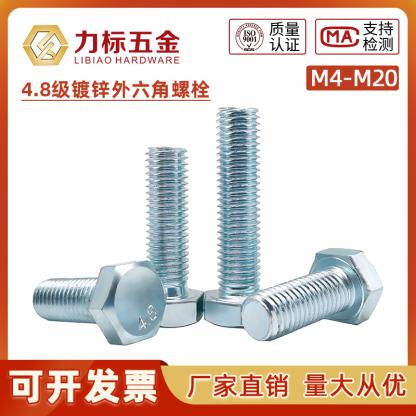FOD: (201, 102, 276, 330), (129, 146, 203, 330), (241, 248, 384, 343), (25, 261, 169, 347)
